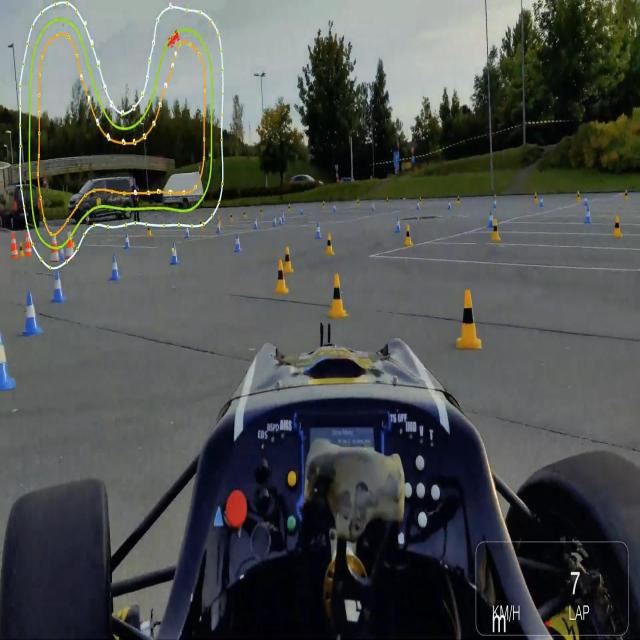blue_cone: (0, 312, 19, 402), (19, 288, 46, 340), (50, 268, 68, 306), (108, 254, 121, 283), (170, 242, 182, 268), (232, 232, 242, 253), (583, 204, 592, 226), (124, 229, 132, 252), (314, 220, 322, 240), (394, 215, 402, 235), (184, 219, 191, 240), (487, 209, 494, 229), (60, 241, 66, 264), (252, 217, 259, 231), (216, 220, 222, 236), (538, 195, 545, 208), (582, 194, 589, 206), (272, 214, 278, 228), (282, 210, 286, 223), (278, 214, 282, 226), (416, 200, 420, 210)
large_orange_cone: (65, 225, 78, 264), (48, 230, 59, 263), (23, 229, 33, 260), (10, 229, 18, 259)
yellow_cone: (453, 287, 491, 358), (328, 272, 350, 320), (273, 257, 291, 295), (279, 242, 296, 276), (323, 231, 337, 257), (612, 214, 624, 240), (491, 217, 502, 242), (404, 222, 414, 249), (18, 240, 24, 258), (575, 189, 582, 203), (623, 187, 629, 202), (534, 192, 539, 204)
